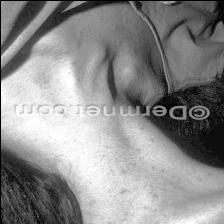Toxin: (46, 122, 154, 216)
